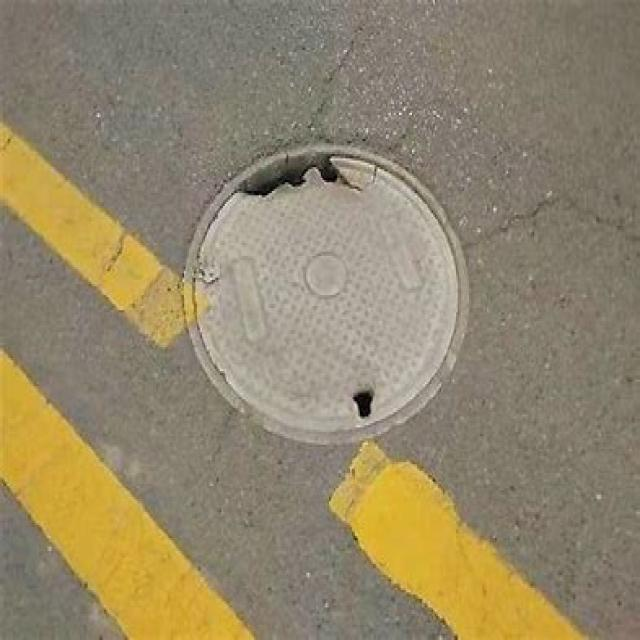manhole: (185, 145, 469, 444)
